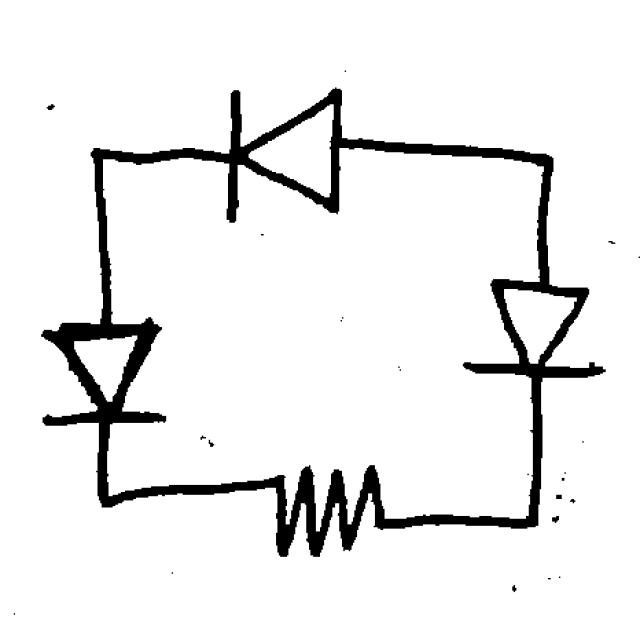diode: (208, 71, 354, 232), (453, 267, 613, 393)
resistor: (27, 308, 176, 440), (260, 441, 394, 564)
